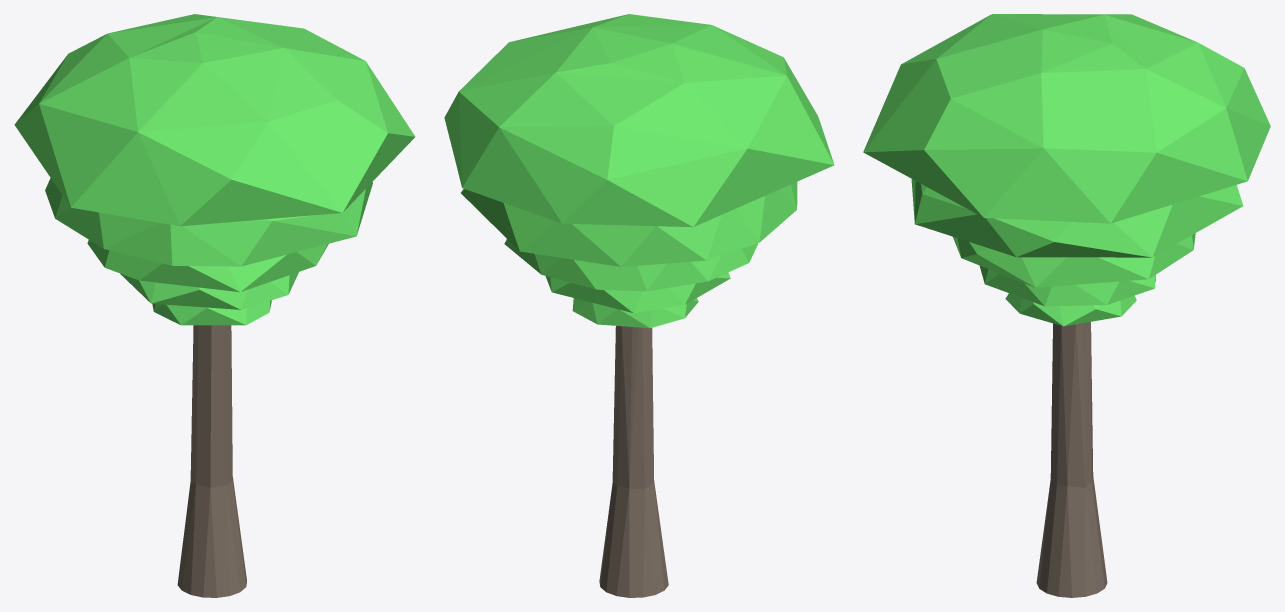
File: tree5.gltf
The picture shows the model from 3 angles, left to right: view 1: azimuth 30°, elevation 25°; view 2: azimuth 150°, elevation 25°; view 3: azimuth 270°, elevation 25°; orthographic projection.
Parts seen in each view (by area): view 1: Sphere.034_wood_0; view 2: Sphere.034_wood_0; view 3: Sphere.034_wood_0.
Boxes of the visible parts, x1=… form: Sphere.034_wood_0: x1=14, y1=14, x2=415, y2=597; Sphere.034_wood_0: x1=444, y1=14, x2=834, y2=597; Sphere.034_wood_0: x1=863, y1=14, x2=1270, y2=597.
Size of the model in its own units: 1.24 by 1.86 by 1.27.
